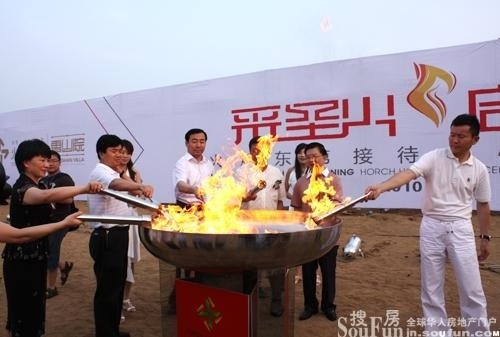fire: (152, 131, 280, 231), (300, 161, 339, 222)
